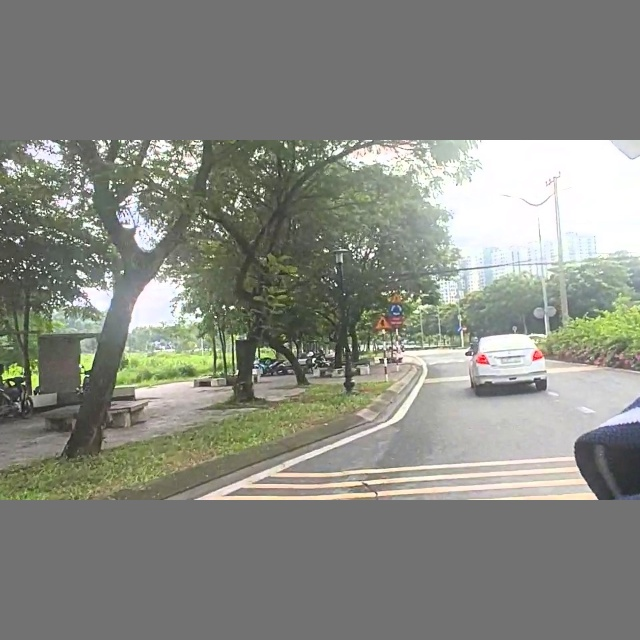P.102: (462, 325, 467, 331)
R.302a: (455, 325, 462, 333)
R.303: (388, 303, 403, 316)
W.207: (374, 315, 393, 331)
W.224: (389, 292, 403, 303)
